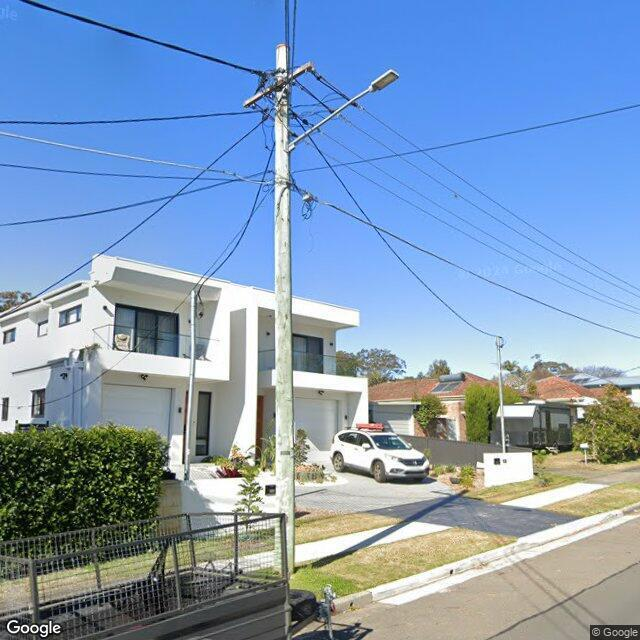crossarm: (244, 61, 314, 110)
steel-pole: (184, 290, 196, 479), (497, 338, 505, 452)
streetlight: (288, 67, 402, 154)
timber-pole: (276, 39, 294, 578)
